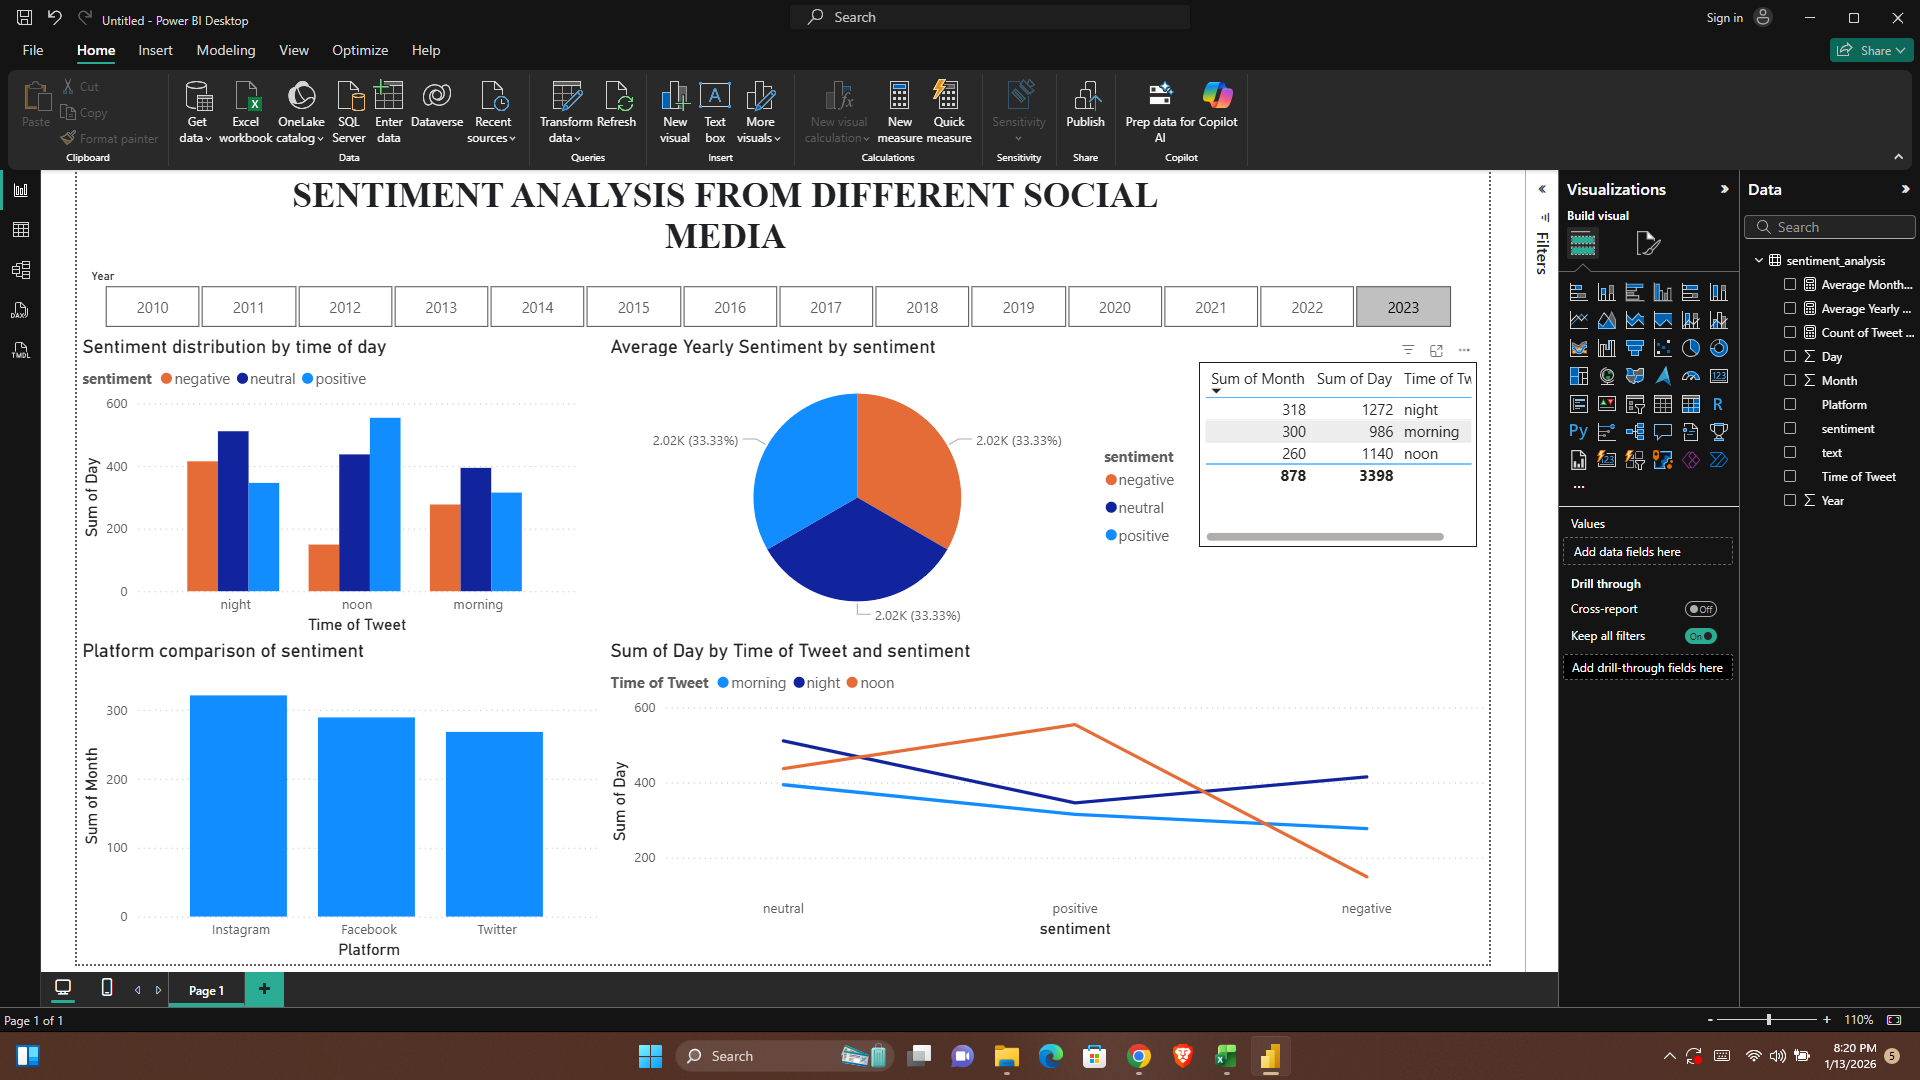

The dashboard page shown, as its layout file describes it:
{"tool":"powerbi","page":{"name":"Page 1","canvas":[1280,720],"ordinal":0},"visuals":[{"type":"pieChart","fields":{"Category":["sentiment_analysis.sentiment","sentiment_analysis.Platform"],"Y":["sentiment_analysis.Average Monthly Sentiment"]},"box":[464.3,148.7,538.6,275.7],"z":0},{"type":"tableEx","fields":{"Values":["Sum(sentiment_analysis.Month)","Sum(sentiment_analysis.Day)","sentiment_analysis.Time of Tweet"]},"box":[1002.9,155.1,277.5,167.8],"z":1000},{"type":"clusteredColumnChart","title":"Platform comparison of sentiment","fields":{"Y":["Sum(sentiment_analysis.Month)"],"Category":["sentiment_analysis.Platform"]},"box":[0,425.3,457,294.7],"z":2000},{"type":"clusteredColumnChart","title":"Sentiment distribution by time of day","fields":{"Y":["Sum(sentiment_analysis.Day)"],"Category":["sentiment_analysis.Time of Tweet"],"Series":["sentiment_analysis.sentiment"]},"box":[0,148.7,457,275.7],"z":3000},{"type":"lineChart","title":"Sum of Day by Time of Tweet and sentiment","fields":{"Y":["Sum(sentiment_analysis.Day)"],"Category":["sentiment_analysis.sentiment"],"Series":["sentiment_analysis.Time of Tweet"]},"box":[464.3,424.4,816.1,295.6],"z":4000},{"type":"slicer","fields":{"Values":["sentiment_analysis.Year"]},"box":[0,83.4,1269.5,65.3],"z":5000},{"type":"shape","box":[0,2.7,1280.4,80.7],"z":6000},{"type":"textbox","box":[267.5,11.8,916.8,81.6],"z":7000}]}

Visuals, with their boxes on the page's 1280x720 design canvas (x1, y1, x2, y2). These are canvas units, not pixel positions in the 1920x1080 screenshot, which may show the page scaled, cropped or inside an application window:
pieChart - sentiment_analysis.sentiment x sentiment_analysis.Platform: rect(464, 149, 1003, 424)
tableEx - Sum(sentiment_analysis.Month) x Sum(sentiment_analysis.Day): rect(1003, 155, 1280, 323)
"Platform comparison of sentiment" clusteredColumnChart: rect(0, 425, 457, 720)
"Sentiment distribution by time of day" clusteredColumnChart: rect(0, 149, 457, 424)
"Sum of Day by Time of Tweet and sentiment" lineChart: rect(464, 424, 1280, 720)
slicer - sentiment_analysis.Year: rect(0, 83, 1270, 149)
shape: rect(0, 3, 1280, 83)
textbox: rect(268, 12, 1184, 93)
